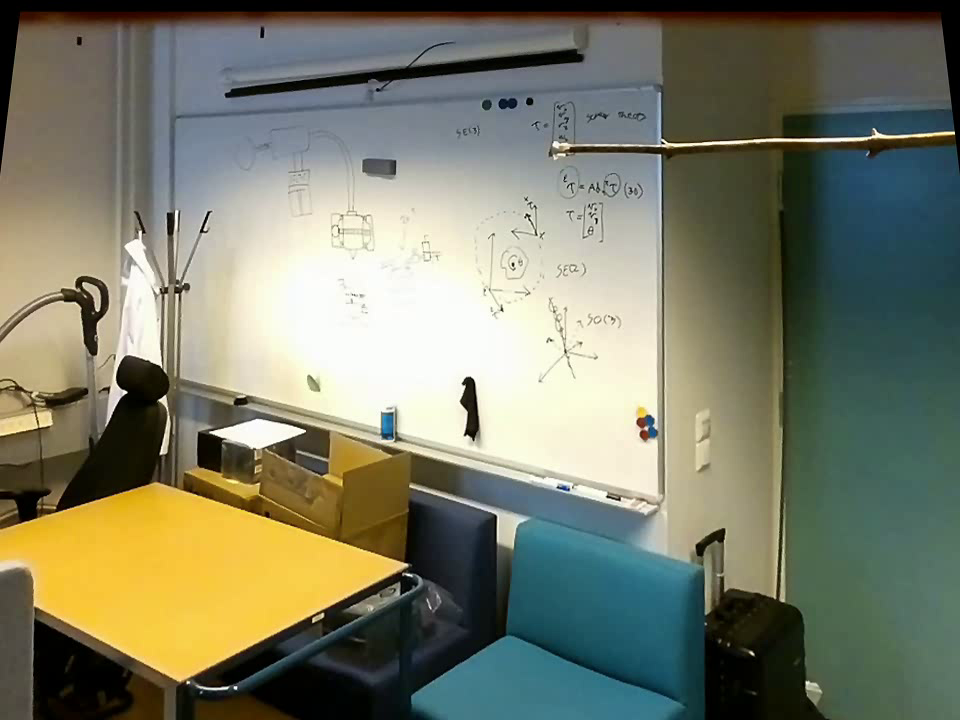aluminum_frame: (181, 372, 665, 517), (171, 78, 663, 134), (654, 91, 668, 510), (162, 116, 183, 220)
branch: (576, 121, 952, 171)
